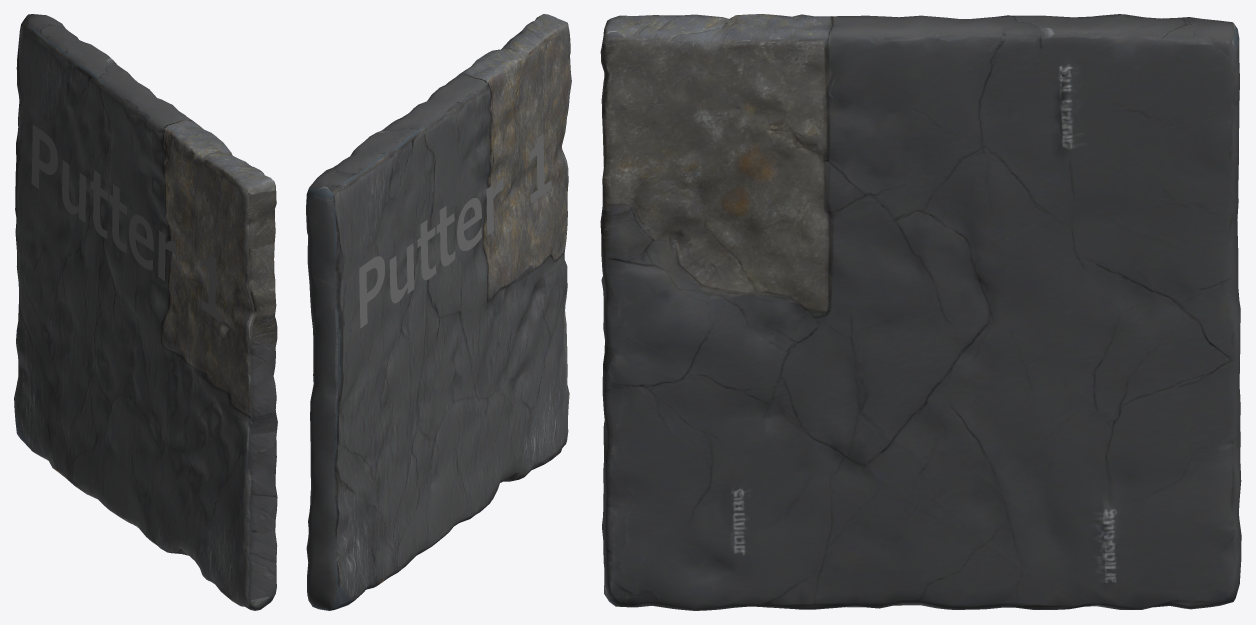
The model's file is Putter1.fbx.
3 renders of one model, left to right at view 1: azimuth 30°, elevation 25°; view 2: azimuth 150°, elevation 25°; view 3: azimuth 270°, elevation 25°, orthographic. The views are drawn at different scales.
Parts seen in each view (by area): view 1: input, テキスト プラス003; view 2: input, テキスト プラス003; view 3: input.
Part boxes in pixels (x1,y1,x2,y2): input: (14,14,277,610); テキスト プラス003: (31,124,222,322); input: (306,14,571,610); テキスト プラス003: (359,133,551,328); input: (600,14,1241,610).
Size of the model in its own units: 17.61 by 198 by 198.
